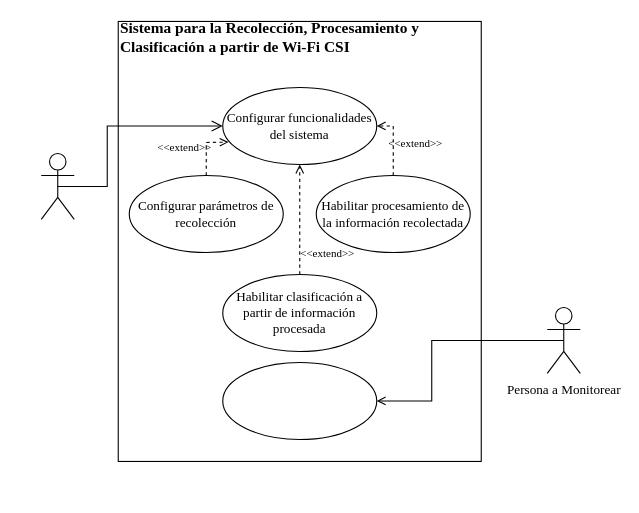
Image size: 639x513. Some labels were removed from this diagram. Here are the shapes that lost their labels. From the top down, the box of each, then its label:
(40, 152, 74, 219): Administrador
(222, 361, 377, 439): Perturbar el enlace de comunicación
